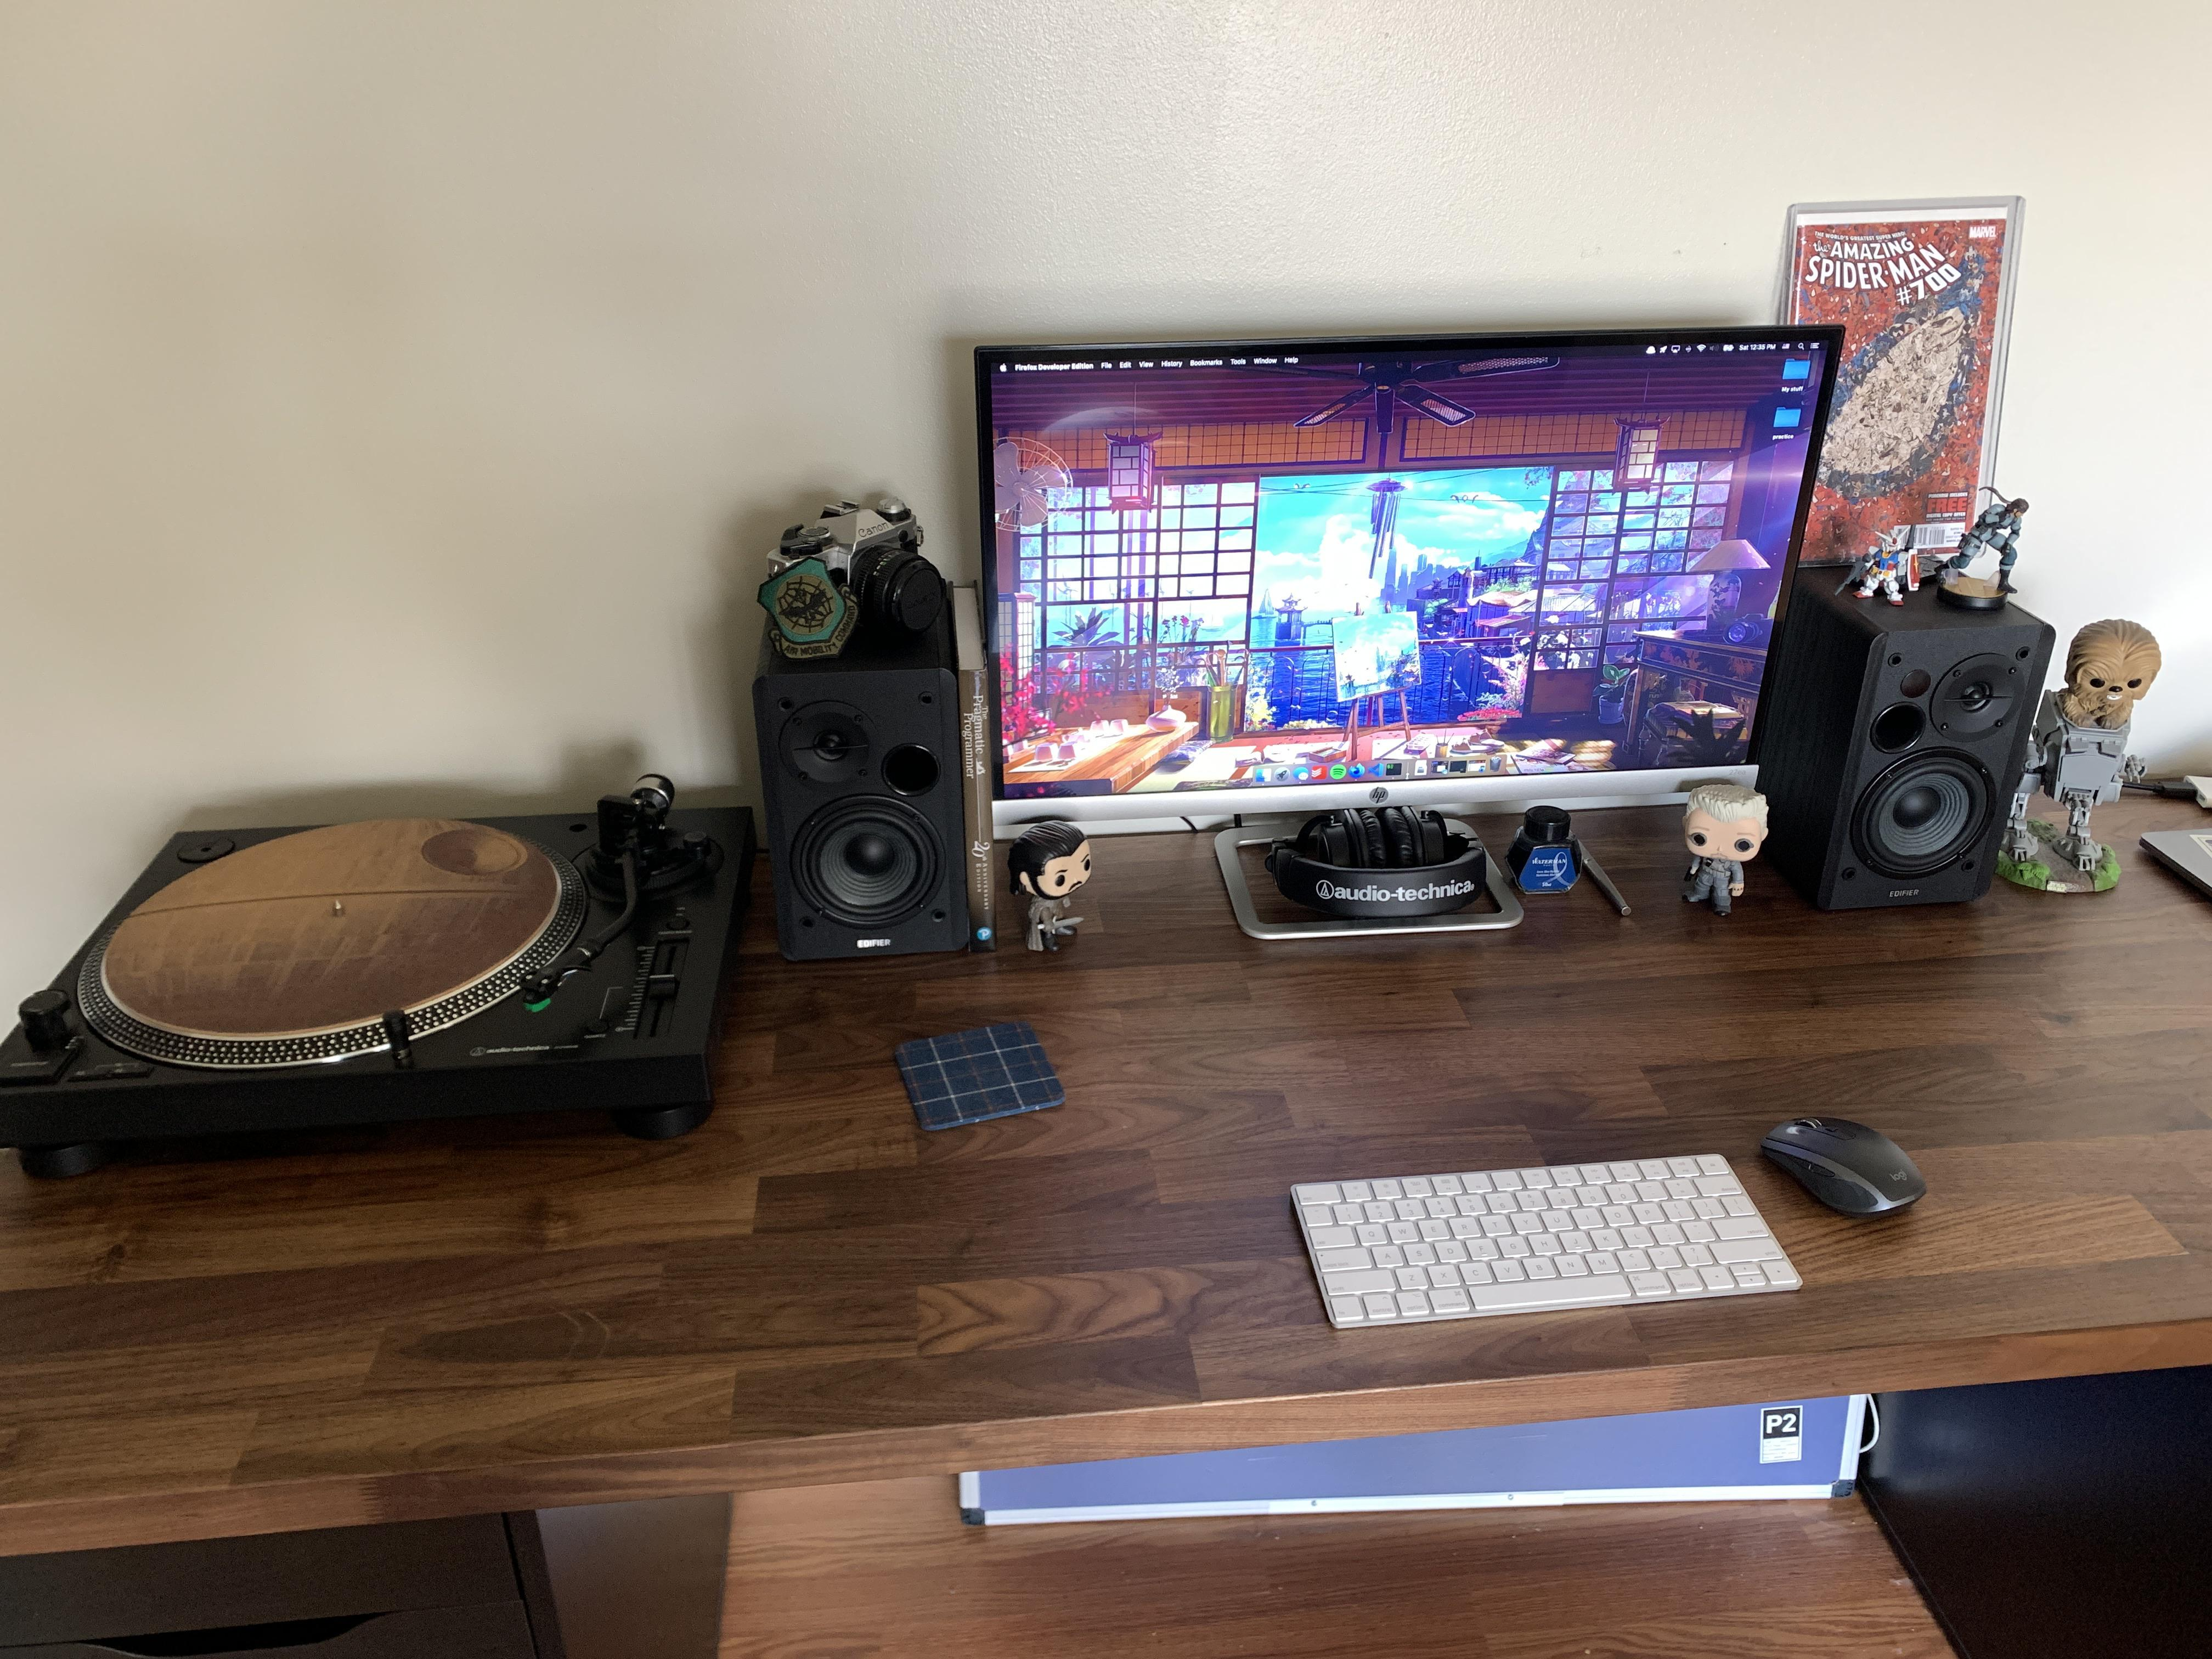Book: (928, 558, 1005, 981)
Decoration (Generic): (1773, 190, 2031, 566), (758, 556, 867, 667)
Decoration (Miniature): (1987, 608, 2179, 897), (995, 807, 1108, 990), (1672, 769, 1775, 939), (1921, 477, 2034, 615), (1832, 523, 1926, 613)
Desk (Generic): (0, 744, 2212, 1659)
Drink Coaster: (880, 1021, 1078, 1141)
External Speakers (Subwoofers): (1752, 554, 2057, 924), (749, 573, 977, 969)
Headphones: (1263, 791, 1494, 929)
Keyboard (Generic): (1270, 1143, 1804, 1312)
Monitor (Landscape): (956, 321, 1853, 964)
Mouse (Generic): (1754, 1105, 1933, 1220)
Storage Drawer: (9, 1363, 745, 1659)
